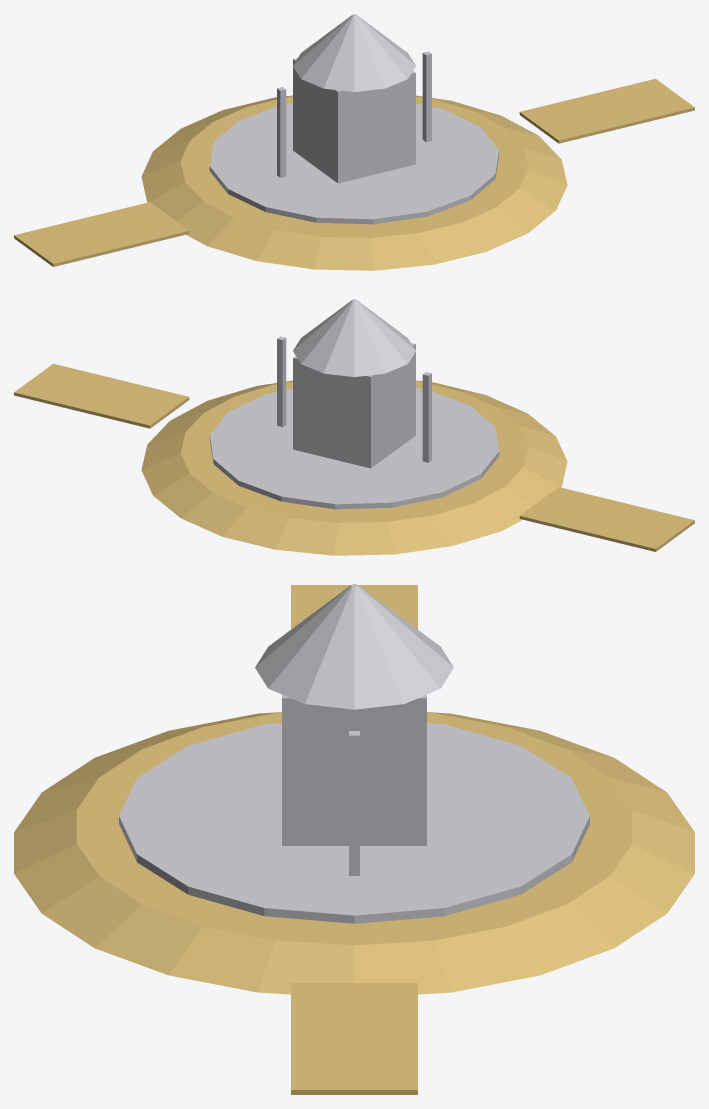
File: solar-sun-probe.gltf
3 views of the same model, one above another, from view 1: azimuth 30°, elevation 25°; view 2: azimuth 150°, elevation 25°; view 3: azimuth 270°, elevation 25° (orthographic). The views are drawn at different scales.
Parts seen in each view (by area): view 1: gold, solar-sun-probe; view 2: gold, solar-sun-probe; view 3: gold, solar-sun-probe.
Part boxes in pixels (x1,y1,x2,y2): gold: (14,78,694,270); solar-sun-probe: (209,14,499,224); gold: (14,363,694,555); solar-sun-probe: (209,299,499,509); gold: (14,585,694,1094); solar-sun-probe: (119,584,589,923).
Size of the model in its own units: 6.6 by 1.63 by 3.76.
